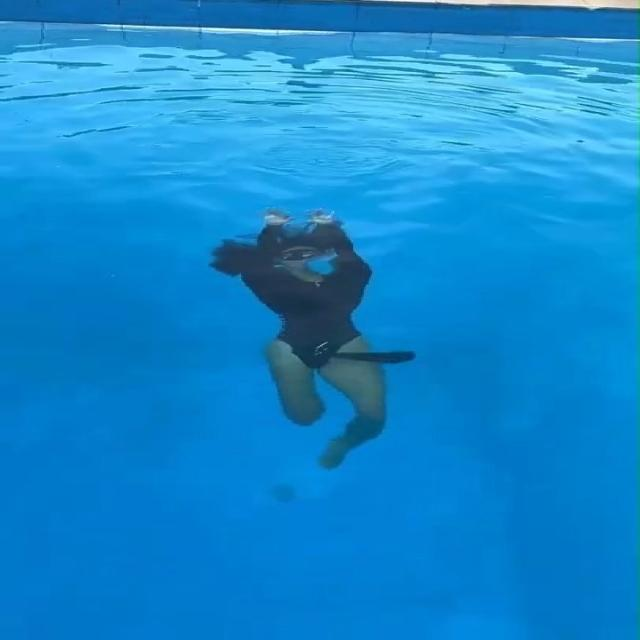Drowning: (208, 207, 419, 470)
